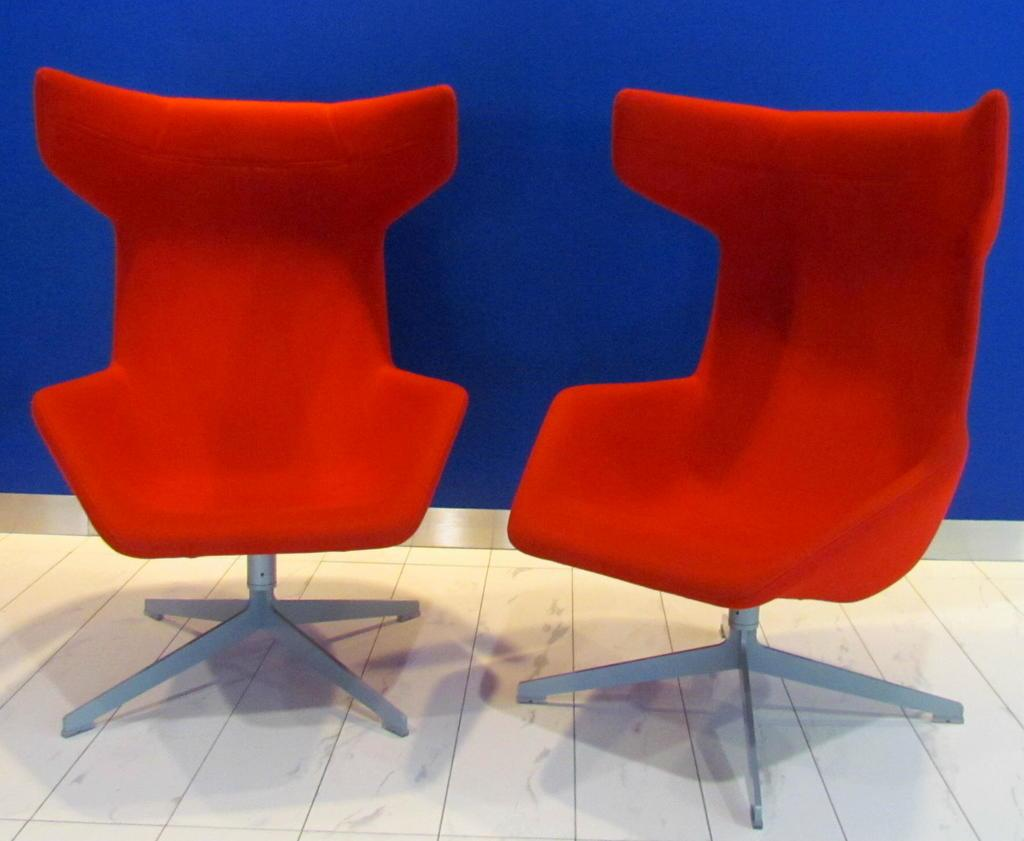Chair: (501, 89, 1011, 829), (21, 82, 472, 807)
